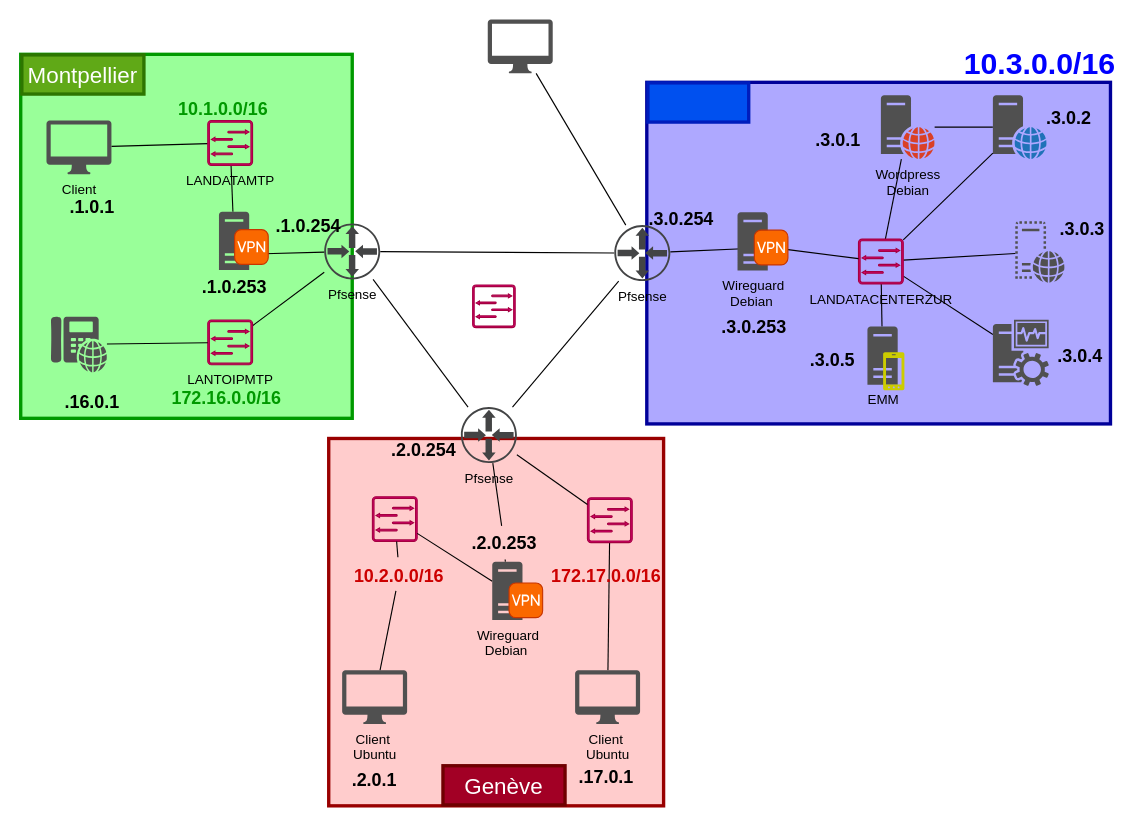
Image size: 1136x827. Some labels were removed from this diagram. The box of each missing label's shape, as (x1, y1, x2, y2) in pixels:
3cx: (50, 316, 106, 372)
LANDATAGNV: (371, 496, 417, 542)
LANTOIPGNV: (586, 497, 632, 543)
Supervision: (992, 319, 1048, 385)
WAN: (472, 284, 515, 328)
Wordpress: (992, 95, 1046, 158)
Wordpress hacké: (1015, 221, 1064, 282)
Zurich: (646, 81, 750, 123)
